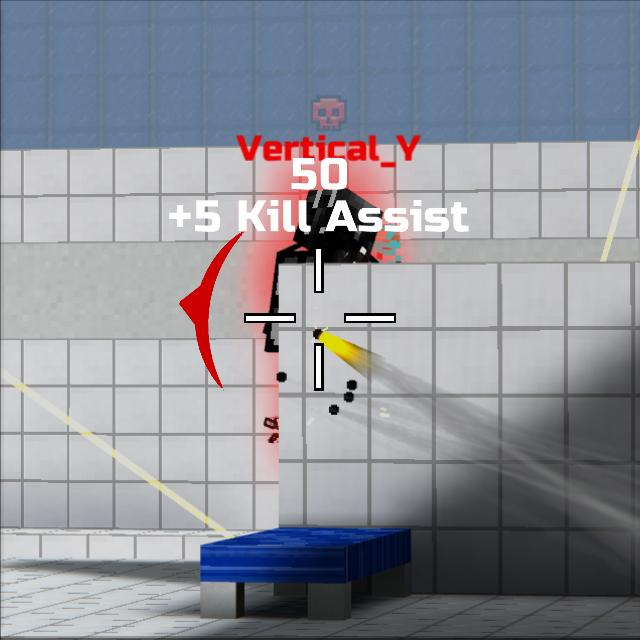Enemy: (292, 188, 384, 263)
